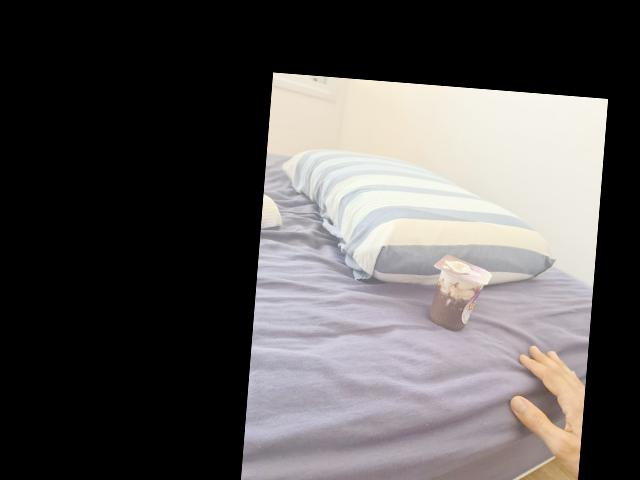milky: (428, 250, 488, 332)
